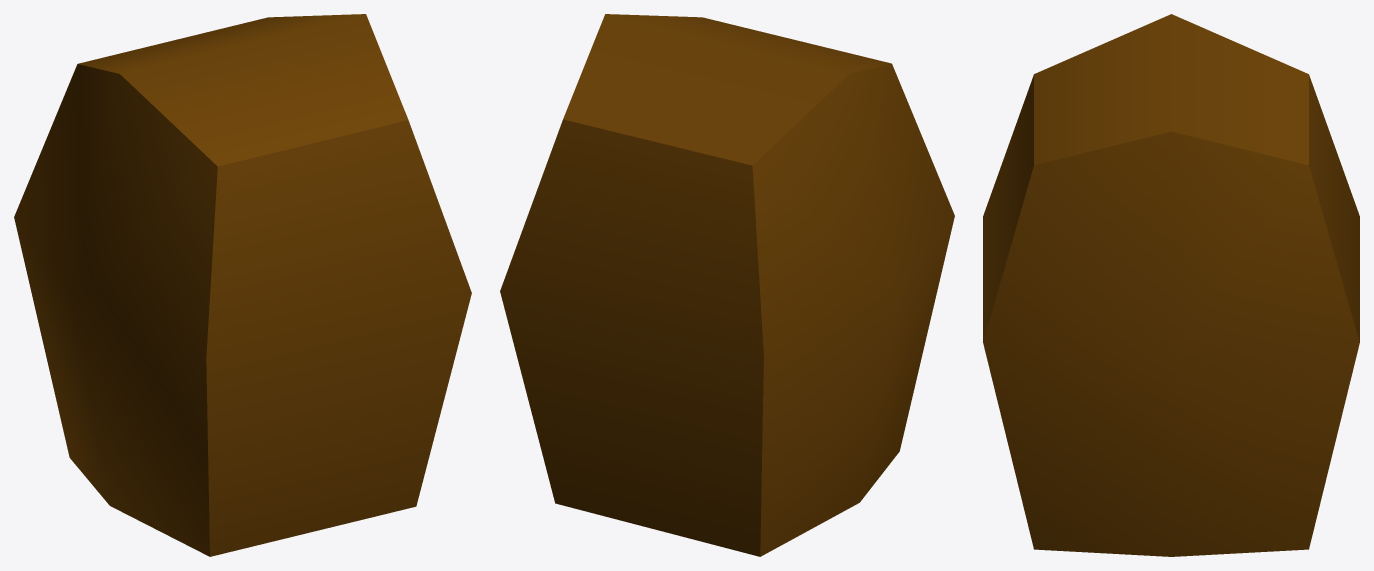
The picture shows the model from 3 angles, left to right: view 1: azimuth 30°, elevation 25°; view 2: azimuth 150°, elevation 25°; view 3: azimuth 270°, elevation 25°; orthographic projection. The views are drawn at different scales.
Visible parts, largest first — view 1: 1; view 2: 1; view 3: 1.
Part boxes in pixels (box(x1,y1,x2,y2)): 1: box(14, 14, 471, 556); 1: box(500, 14, 954, 556); 1: box(983, 14, 1359, 556).
Size of the model in its own units: 25.11 by 30.8 by 24.4.
